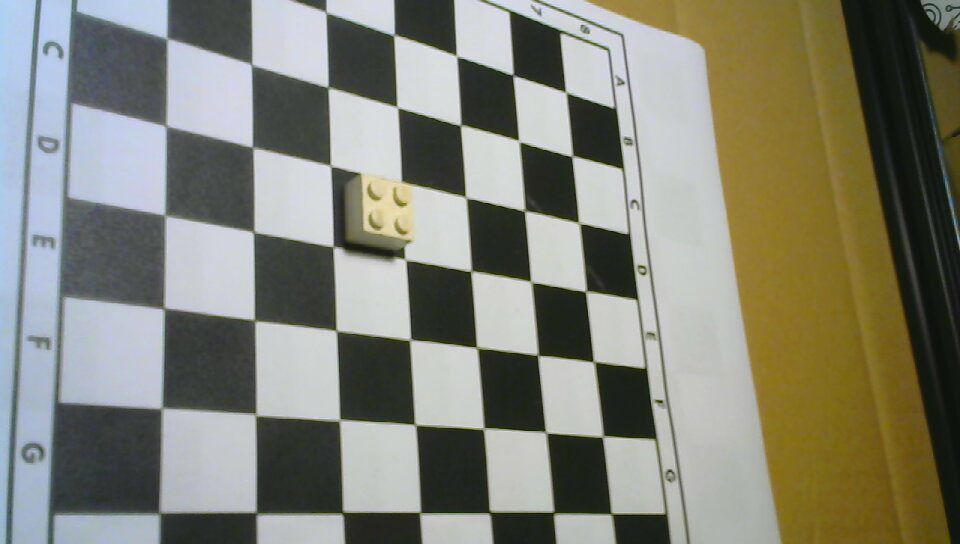wp: (331, 161, 420, 263)
